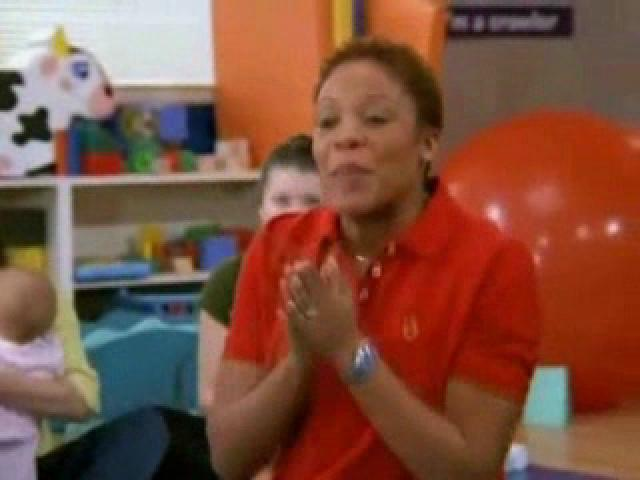F: (208, 41, 513, 480)
